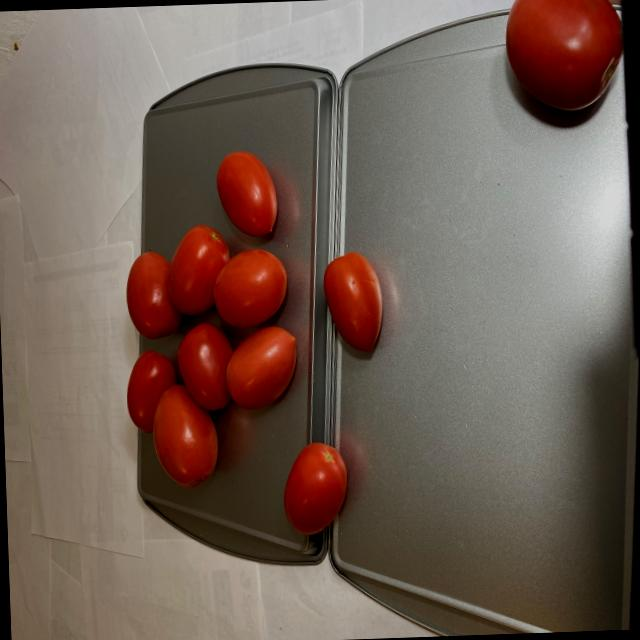tomato: (118, 137, 390, 545), (496, 0, 620, 111)
